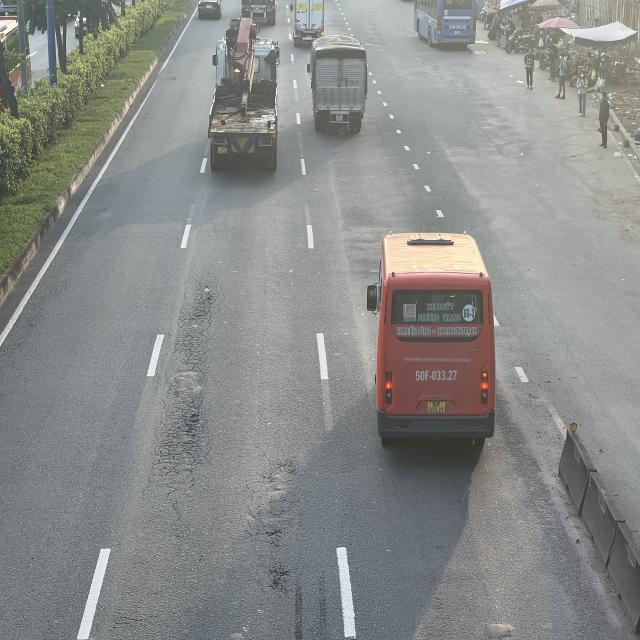car: (198, 0, 224, 20)
coach: (411, 0, 477, 49)
truck: (206, 26, 277, 170), (310, 36, 369, 133), (292, 0, 324, 45)
van: (366, 230, 495, 441)
